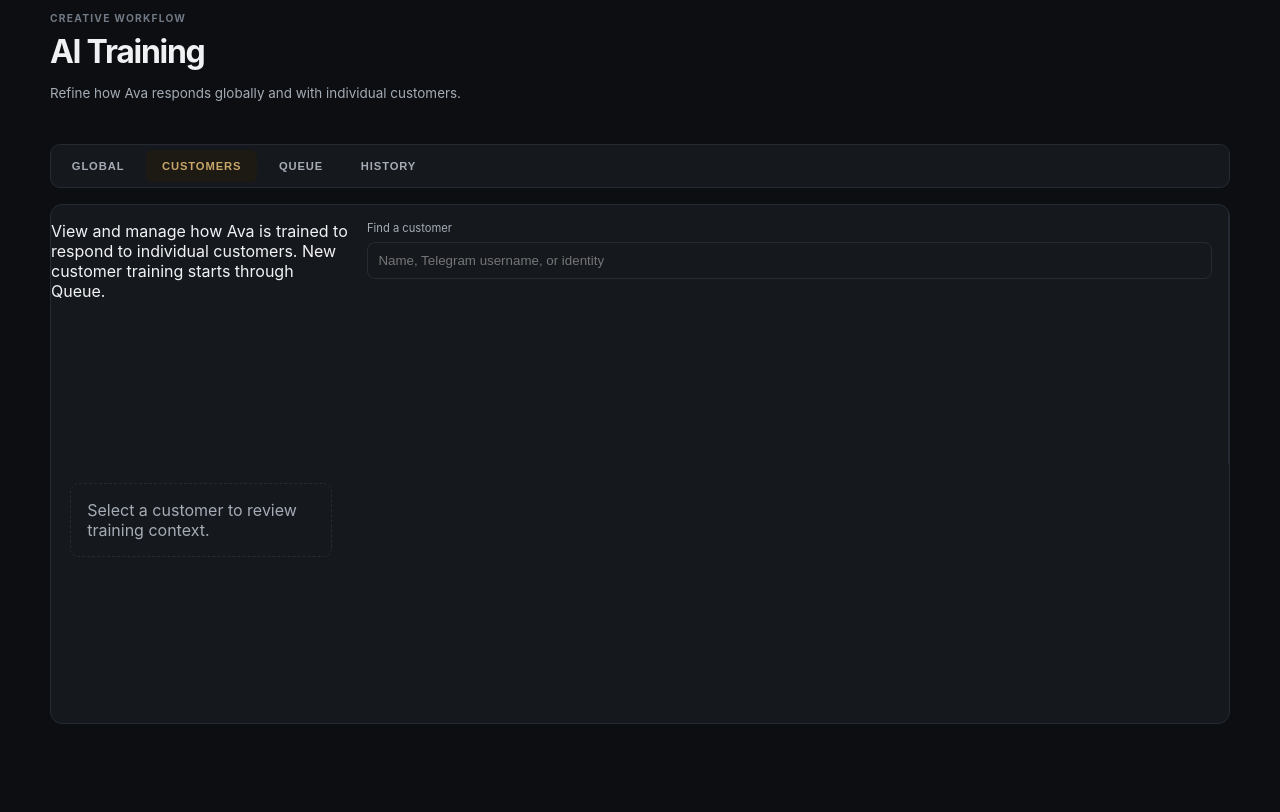
Test case: AI Training workspace › searches existing relationship identities without cross-customer leakage
Type "Blair" into the field named "Search customers" at (790, 260), box left=367, top=242, right=1212, bottom=279
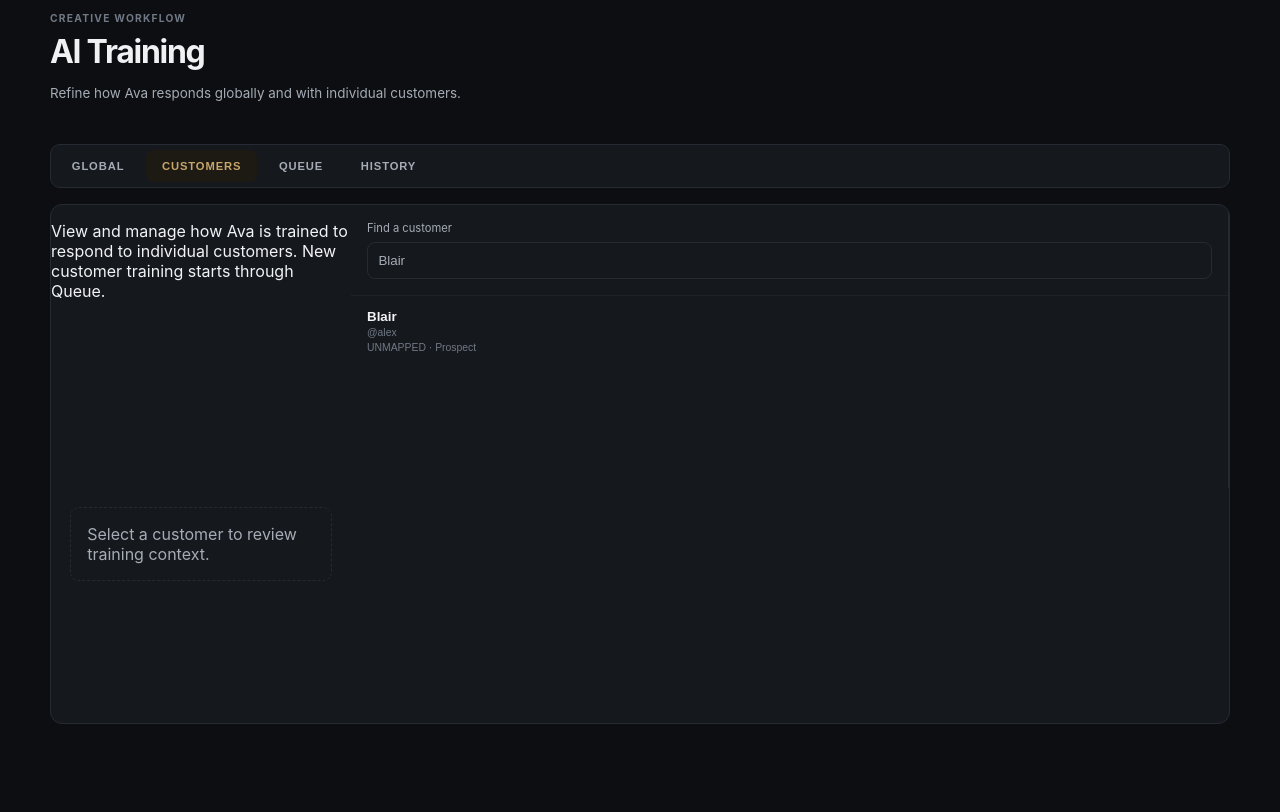
Check: the button "Blair @alex UNMAPPED · Prospect" is shown, box left=351, top=295, right=1228, bottom=365
